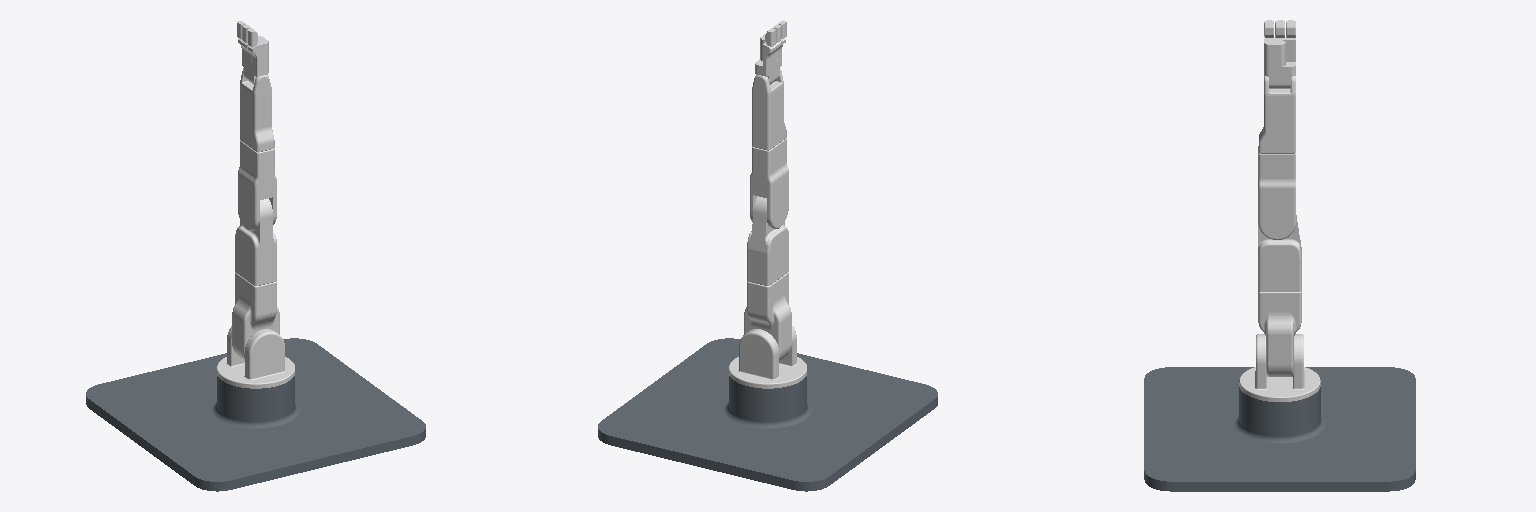
The robot description file, URDF, robot "onshape":
<robot name="onshape">
    <link name="base">
        <visual>
            <origin xyz="-0.021579 0.0130665 0.072432" rpy="0 -0 0" />
            <geometry>
                <mesh filename="package://mrm_sim/description/meshes/base.stl"/>
            </geometry>
            <material name="base_material">
                <color rgba="0.439216 0.47451 0.501961 1.0"/>
            </material>
        </visual>
        <collision>
            <origin xyz="-0.021579 0.0130665 0.072432" rpy="0 -0 0" />
            <geometry>
                <mesh filename="package://mrm_sim/description/meshes/base.stl"/>
            </geometry>
            <material name="base_material">
                <color rgba="0.439216 0.47451 0.501961 1.0"/>
            </material>
        </collision>
        <inertial>
            <origin xyz="-0.021579 0.0130665 0.0735291" rpy="0 0 0"/>
            <mass value="127.624" />
            <inertia ixx="2.14806" ixy="3.89635e-16" ixz="0" iyy="2.14806" iyz="0" izz="4.14935" />
        </inertial>
    </link>

    <link name="mrm_link_1">
        <visual>
            <origin xyz="1.04083e-17 -3.46945e-18 -0.02" rpy="3.14159 -0 0" />
            <geometry>
                <mesh filename="package://mrm_sim/description/meshes/mrm_link_1.stl"/>
            </geometry>
            <material name="mrm_link_1_material">
                <color rgba="0.901961 0.901961 0.901961 1.0"/>
            </material>
        </visual>
        <collision>
            <origin xyz="1.04083e-17 -3.46945e-18 -0.02" rpy="3.14159 -0 0" />
            <geometry>
                <mesh filename="package://mrm_sim/description/meshes/mrm_link_1.stl"/>
            </geometry>
            <material name="mrm_link_1_material">
                <color rgba="0.901961 0.901961 0.901961 1.0"/>
            </material>
        </collision>
        <inertial>
            <origin xyz="1.17022e-17 9.15212e-18 -0.0323401" rpy="0 0 0"/>
            <mass value="0.457002" />
            <inertia ixx="0.000783702" ixy="0" ixz="0" iyy="0.000994831" iyz="0" izz="0.000989884" />
        </inertial>
    </link>

    <link name="mrm_link_2">
        <visual>
            <origin xyz="-1.04083e-17 -0.07 -0.05" rpy="-1.2326e-32 -1.2326e-32 -1.2326e-32" />
            <geometry>
                <mesh filename="package://mrm_sim/description/meshes/mrm_link_2.stl"/>
            </geometry>
            <material name="mrm_link_2_material">
                <color rgba="0.901961 0.901961 0.901961 1.0"/>
            </material>
        </visual>
        <collision>
            <origin xyz="-1.04083e-17 -0.07 -0.05" rpy="-1.2326e-32 -1.2326e-32 -1.2326e-32" />
            <geometry>
                <mesh filename="package://mrm_sim/description/meshes/mrm_link_2.stl"/>
            </geometry>
            <material name="mrm_link_2_material">
                <color rgba="0.901961 0.901961 0.901961 1.0"/>
            </material>
        </collision>
        <inertial>
            <origin xyz="-9.37001e-09 -0.055345 -0.025" rpy="0 0 0"/>
            <mass value="0.724873" />
            <inertia ixx="0.00195482" ixy="-3.22679e-10" ixz="-8.48697e-12" iyy="0.000537775" iyz="-3.35181e-10" izz="0.00198303" />
        </inertial>
    </link>

    <link name="mrm_link_3">
        <visual>
            <origin xyz="-6.93889e-18 -0.025 -0.07" rpy="-1.5708 -1.2326e-32 -1.2326e-32" />
            <geometry>
                <mesh filename="package://mrm_sim/description/meshes/mrm_link_3.stl"/>
            </geometry>
            <material name="mrm_link_3_material">
                <color rgba="0.901961 0.901961 0.901961 1.0"/>
            </material>
        </visual>
        <collision>
            <origin xyz="-6.93889e-18 -0.025 -0.07" rpy="-1.5708 -1.2326e-32 -1.2326e-32" />
            <geometry>
                <mesh filename="package://mrm_sim/description/meshes/mrm_link_3.stl"/>
            </geometry>
            <material name="mrm_link_3_material">
                <color rgba="0.901961 0.901961 0.901961 1.0"/>
            </material>
        </collision>
        <inertial>
            <origin xyz="0.0012311 -2.33746e-11 -0.0716506" rpy="0 0 0"/>
            <mass value="0.54821" />
            <inertia ixx="0.00121056" ixy="-2.94841e-12" ixz="-3.95885e-05" iyy="0.00138926" iyz="-7.93491e-13" izz="0.000368182" />
        </inertial>
    </link>

    <link name="mrm_link_4">
        <visual>
            <origin xyz="-8.67362e-18 -0.07 -0.01" rpy="4.93038e-32 -1.07439e-31 4.23516e-22" />
            <geometry>
                <mesh filename="package://mrm_sim/description/meshes/mrm_link_4.stl"/>
            </geometry>
            <material name="mrm_link_4_material">
                <color rgba="0.901961 0.901961 0.901961 1.0"/>
            </material>
        </visual>
        <collision>
            <origin xyz="-8.67362e-18 -0.07 -0.01" rpy="4.93038e-32 -1.07439e-31 4.23516e-22" />
            <geometry>
                <mesh filename="package://mrm_sim/description/meshes/mrm_link_4.stl"/>
            </geometry>
            <material name="mrm_link_4_material">
                <color rgba="0.901961 0.901961 0.901961 1.0"/>
            </material>
        </collision>
        <inertial>
            <origin xyz="-1.09943e-17 -0.0673906 0.015" rpy="0 0 0"/>
            <mass value="0.412468" />
            <inertia ixx="0.000869642" ixy="1.08659e-25" ixz="2.40142e-34" iyy="0.000256564" iyz="4.64206e-35" izz="0.000941521" />
        </inertial>
    </link>

    <link name="mrm_link_5">
        <visual>
            <origin xyz="-0.000355339 -0.02 -0.07" rpy="-1.5708 -0 2.05329e-30" />
            <geometry>
                <mesh filename="package://mrm_sim/description/meshes/mrm_link_5.stl"/>
            </geometry>
            <material name="mrm_link_5_material">
                <color rgba="0.901961 0.901961 0.901961 1.0"/>
            </material>
        </visual>
        <collision>
            <origin xyz="-0.000355339 -0.02 -0.07" rpy="-1.5708 -0 2.05329e-30" />
            <geometry>
                <mesh filename="package://mrm_sim/description/meshes/mrm_link_5.stl"/>
            </geometry>
            <material name="mrm_link_5_material">
                <color rgba="0.901961 0.901961 0.901961 1.0"/>
            </material>
        </collision>
        <inertial>
            <origin xyz="-0.00417037 -5.28886e-12 -0.0650493" rpy="0 0 0"/>
            <mass value="0.332243" />
            <inertia ixx="0.000543467" ixy="6.10432e-13" ixz="1.93456e-05" iyy="0.000616597" iyz="-8.66254e-14" izz="0.000159715" />
        </inertial>
    </link>

    <link name="mrm_link_6">
        <visual>
            <origin xyz="0.04 -0.015 -0.02" rpy="-1.5708 -1.5708 0" />
            <geometry>
                <mesh filename="package://mrm_sim/description/meshes/mrm_link_6.stl"/>
            </geometry>
            <material name="mrm_link_6_material">
                <color rgba="0.901961 0.901961 0.901961 1.0"/>
            </material>
        </visual>
        <collision>
            <origin xyz="0.04 -0.015 -0.02" rpy="-1.5708 -1.5708 0" />
            <geometry>
                <mesh filename="package://mrm_sim/description/meshes/mrm_link_6.stl"/>
            </geometry>
            <material name="mrm_link_6_material">
                <color rgba="0.901961 0.901961 0.901961 1.0"/>
            </material>
        </collision>
        <inertial>
            <origin xyz="0.0258522 -0.00332296 -0.0173842" rpy="0 0 0"/>
            <mass value="0.095315" />
            <inertia ixx="7.76724e-05" ixy="2.20808e-06" ixz="1.09983e-05" iyy="6.55423e-05" iyz="-8.61508e-06" izz="2.84049e-05" />
        </inertial>
    </link>

    <link name="thumb_base">
        <visual>
            <origin xyz="-3.46945e-18 0 0" rpy="3.14159 -0 -4.75263e-20" />
            <geometry>
                <mesh filename="package://mrm_sim/description/meshes/thumb_base.stl"/>
            </geometry>
            <material name="thumb_base_material">
                <color rgba="0.901961 0.901961 0.901961 1.0"/>
            </material>
        </visual>
        <collision>
            <origin xyz="-3.46945e-18 0 0" rpy="3.14159 -0 -4.75263e-20" />
            <geometry>
                <mesh filename="package://mrm_sim/description/meshes/thumb_base.stl"/>
            </geometry>
            <material name="thumb_base_material">
                <color rgba="0.901961 0.901961 0.901961 1.0"/>
            </material>
        </collision>
        <inertial>
            <origin xyz="-0.00466898 0.0130108 -0.023257" rpy="0 0 0"/>
            <mass value="0.0472774" />
            <inertia ixx="1.32446e-05" ixy="1.59951e-06" ixz="-6.91584e-07" iyy="1.18987e-05" iyz="2.50125e-07" izz="9.24953e-06" />
        </inertial>
    </link>

    <link name="finger_link">
        <visual>
            <origin xyz="-0.015 -0.0035 0.009" rpy="1.5708 -4.23516e-22 0" />
            <geometry>
                <mesh filename="package://mrm_sim/description/meshes/finger_link.stl"/>
            </geometry>
            <material name="finger_link_material">
                <color rgba="0.901961 0.901961 0.901961 1.0"/>
            </material>
        </visual>
        <collision>
            <origin xyz="-0.015 -0.0035 0.009" rpy="1.5708 -4.23516e-22 0" />
            <geometry>
                <mesh filename="package://mrm_sim/description/meshes/finger_link.stl"/>
            </geometry>
            <material name="finger_link_material">
                <color rgba="0.901961 0.901961 0.901961 1.0"/>
            </material>
        </collision>
        <inertial>
            <origin xyz="-0.015 -0.0037786 1.73472e-18" rpy="0 0 0"/>
            <mass value="0.00804659" />
            <inertia ixx="3.48713e-07" ixy="1.70679e-28" ixz="-7.43421e-13" iyy="7.51787e-07" iyz="-8.78592e-26" izz="6.95805e-07" />
        </inertial>
    </link>

    <joint name="revolute_finger_3a" type="revolute">
        <origin xyz="-0.02 0.02 -0.045" rpy="-1.5708 -1.5708 0" />
        <parent link="thumb_base" />
        <child link="finger_link" />
        <axis xyz="0 0 1"/>
        <limit effort="1.5" velocity="22" />
        <joint_properties friction="0.0"/>
    </joint>

    <joint name="revolute_thumb" type="revolute">
        <origin xyz="0.035 0.005 -0.02" rpy="-1.5708 0.00055944 1.5708" />
        <parent link="mrm_link_6" />
        <child link="thumb_base" />
        <axis xyz="0 0 1"/>
        <limit effort="1.5" velocity="22" />
        <joint_properties friction="0.0"/>
    </joint>

    <link name="finger_link_2">
        <visual>
            <origin xyz="0.015 -0.0035 0.009" rpy="1.5708 -0 1.97215e-31" />
            <geometry>
                <mesh filename="package://mrm_sim/description/meshes/finger_link.stl"/>
            </geometry>
            <material name="finger_link_material">
                <color rgba="0.901961 0.901961 0.901961 1.0"/>
            </material>
        </visual>
        <collision>
            <origin xyz="0.015 -0.0035 0.009" rpy="1.5708 -0 1.97215e-31" />
            <geometry>
                <mesh filename="package://mrm_sim/description/meshes/finger_link.stl"/>
            </geometry>
            <material name="finger_link_material">
                <color rgba="0.901961 0.901961 0.901961 1.0"/>
            </material>
        </collision>
        <inertial>
            <origin xyz="0.015 -0.0037786 5.20417e-18" rpy="0 0 0"/>
            <mass value="0.00804659" />
            <inertia ixx="3.48713e-07" ixy="-2.15527e-43" ixz="-7.43421e-13" iyy="7.51787e-07" iyz="7.6492e-38" izz="6.95805e-07" />
        </inertial>
    </link>

    <joint name="revolute_finger_1a" type="revolute">
        <origin xyz="0.08 -0.015 3.46945e-17" rpy="1.98487e-15 -3.83644e-15 -1.95856e-12" />
        <parent link="mrm_link_6" />
        <child link="finger_link_2" />
        <axis xyz="0 0 1"/>
        <limit effort="1.5" velocity="22" />
        <joint_properties friction="0.0"/>
    </joint>

    <link name="finger_link_3">
        <visual>
            <origin xyz="-0.015 -0.0035 0.009" rpy="1.5708 4.23516e-22 7.88861e-31" />
            <geometry>
                <mesh filename="package://mrm_sim/description/meshes/finger_link.stl"/>
            </geometry>
            <material name="finger_link_material">
                <color rgba="0.901961 0.901961 0.901961 1.0"/>
            </material>
        </visual>
        <collision>
            <origin xyz="-0.015 -0.0035 0.009" rpy="1.5708 4.23516e-22 7.88861e-31" />
            <geometry>
                <mesh filename="package://mrm_sim/description/meshes/finger_link.stl"/>
            </geometry>
            <material name="finger_link_material">
                <color rgba="0.901961 0.901961 0.901961 1.0"/>
            </material>
        </collision>
        <inertial>
            <origin xyz="-0.015 -0.0037786 -1.73472e-18" rpy="0 0 0"/>
            <mass value="0.00804659" />
            <inertia ixx="3.48713e-07" ixy="-3.18394e-28" ixz="-7.43421e-13" iyy="7.51787e-07" iyz="-3.00341e-37" izz="6.95805e-07" />
        </inertial>
    </link>

    <joint name="revolute_finger_2a" type="revolute">
        <origin xyz="0.08 -0.015 -0.02" rpy="3.14159 2.12176e-15 3.14159" />
        <parent link="mrm_link_6" />
        <child link="finger_link_3" />
        <axis xyz="0 0 1"/>
        <limit effort="1.5" velocity="22" />
        <joint_properties friction="0.0"/>
    </joint>

    <joint name="revolute_wrist" type="revolute">
        <origin xyz="-0.0253553 0 -0.14" rpy="3.14159 1.5708 0" />
        <parent link="mrm_link_5" />
        <child link="mrm_link_6" />
        <axis xyz="0 0 1"/>
        <limit effort="1.5" velocity="22" />
        <joint_properties friction="0.0"/>
    </joint>

    <joint name="revolute_forearm" type="revolute">
        <origin xyz="0 -0.14 0.015" rpy="-1.5708 -1.38646e-14 -2.22045e-16" />
        <parent link="mrm_link_4" />
        <child link="mrm_link_5" />
        <axis xyz="0 0 1"/>
        <limit effort="1.5" velocity="22" />
        <joint_properties friction="0.0"/>
    </joint>

    <joint name="revolute_elbow" type="revolute">
        <origin xyz="0.005 0.015 -0.139756" rpy="1.5708 2.66415e-06 6.50748e-16" />
        <parent link="mrm_link_3" />
        <child link="mrm_link_4" />
        <axis xyz="0 0 1"/>
        <limit effort="1.5" velocity="22" />
        <joint_properties friction="0.0"/>
    </joint>

    <joint name="revolute_upper" type="revolute">
        <origin xyz="-3.46945e-18 -0.14 -0.025" rpy="-1.5708 1.5708 0" />
        <parent link="mrm_link_2" />
        <child link="mrm_link_3" />
        <axis xyz="0 0 1"/>
        <limit effort="1.5" velocity="22" />
        <joint_properties friction="0.0"/>
    </joint>

    <joint name="revolute_shoulder_2" type="revolute">
        <origin xyz="-0.025 -3.46945e-18 -0.06" rpy="1.5708 -1.11022e-16 -1.5708" />
        <parent link="mrm_link_1" />
        <child link="mrm_link_2" />
        <axis xyz="0 0 1"/>
        <limit effort="1.5" velocity="22" />
        <joint_properties friction="0.0"/>
    </joint>

    <joint name="revolute_shoulder_1" type="revolute">
        <origin xyz="-0.021579 0.0130665 0.152432" rpy="3.14159 -0 -1.5708" />
        <parent link="base" />
        <child link="mrm_link_1" />
        <axis xyz="0 0 1"/>
        <limit effort="1.5" velocity="22" />
        <joint_properties friction="0.0"/>
    </joint>


</robot>

--- Render facts (derived) ---
3 views of the same robot in one strip: view 1: azimuth 30°, elevation 25°; view 2: azimuth 150°, elevation 25°; view 3: azimuth 270°, elevation 25° (orthographic).
Robot: onshape — 11 links, 10 joints (10 revolute); root link base; default pose: all joints at 0.
Visible links, largest first — view 1: base, mrm_link_1, mrm_link_4, mrm_link_2, mrm_link_3, mrm_link_5, mrm_link_6; view 2: base, mrm_link_1, mrm_link_3, mrm_link_2, mrm_link_4, mrm_link_5, mrm_link_6; view 3: base, mrm_link_4, mrm_link_2, mrm_link_1, mrm_link_3, mrm_link_5, mrm_link_6, thumb_base.
Boxes of the visible links, left/top/right/bottom form: base: left=86, top=338, right=425, bottom=491; mrm_link_1: left=217, top=326, right=294, bottom=388; mrm_link_4: left=238, top=140, right=276, bottom=230; mrm_link_2: left=232, top=272, right=279, bottom=360; mrm_link_3: left=235, top=198, right=276, bottom=285; mrm_link_5: left=240, top=68, right=274, bottom=152; mrm_link_6: left=238, top=38, right=268, bottom=84; base: left=598, top=338, right=937, bottom=491; mrm_link_1: left=729, top=326, right=806, bottom=388; mrm_link_3: left=747, top=196, right=788, bottom=285; mrm_link_2: left=744, top=272, right=791, bottom=360; mrm_link_4: left=750, top=139, right=788, bottom=228; mrm_link_5: left=752, top=69, right=786, bottom=150; mrm_link_6: left=755, top=41, right=781, bottom=84; base: left=1144, top=367, right=1415, bottom=491; mrm_link_4: left=1258, top=146, right=1295, bottom=239; mrm_link_2: left=1258, top=291, right=1301, bottom=376; mrm_link_1: left=1239, top=334, right=1320, bottom=401; mrm_link_3: left=1258, top=215, right=1301, bottom=291; mrm_link_5: left=1259, top=75, right=1295, bottom=153; mrm_link_6: left=1264, top=38, right=1295, bottom=88; thumb_base: left=1264, top=38, right=1285, bottom=66.
Bounding box of the posed robot: 0.5 × 0.5 × 0.8298 m (x, y, z).
Meshes: 9 distinct files referenced, 11 mesh visuals loaded (9 binary STL).